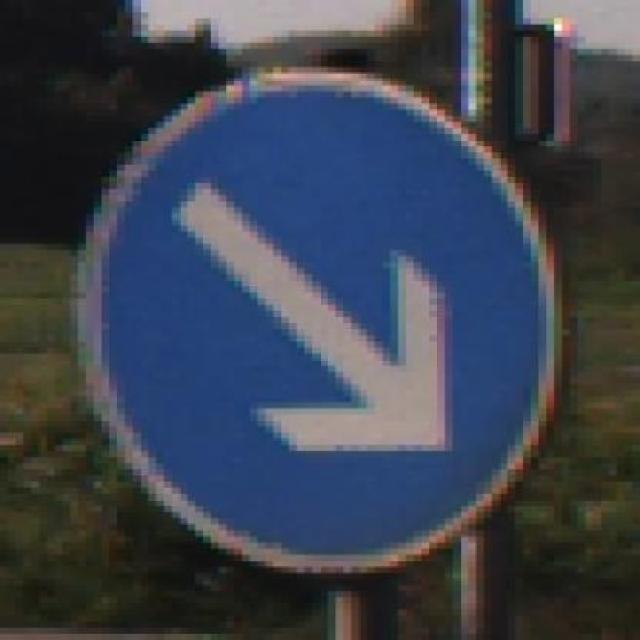Keep-Right: (47, 49, 578, 592)
